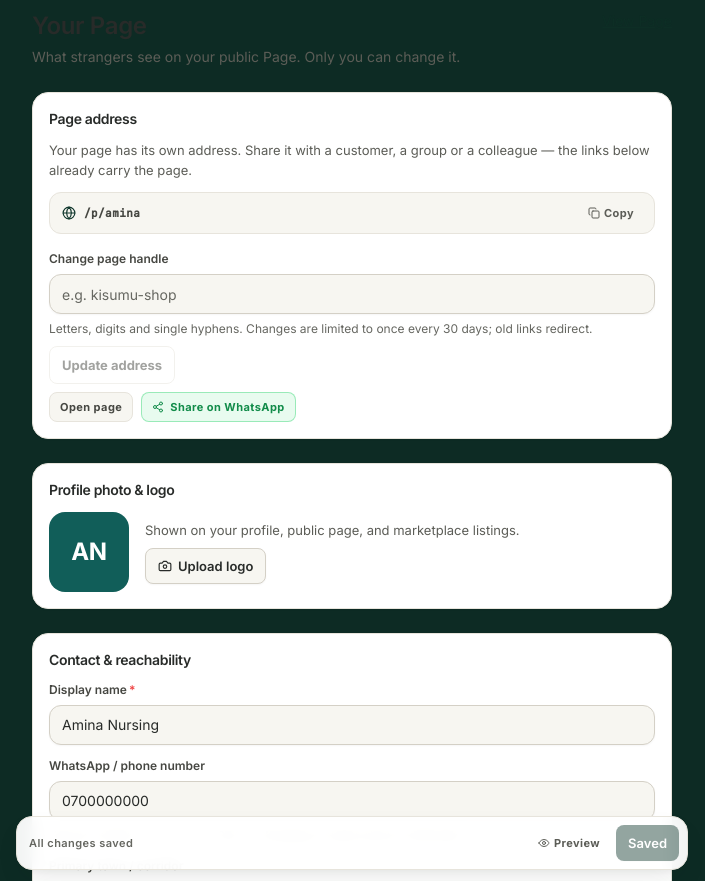
Scenario: the page editor's one save › saves from the bar and goes back to clean
The width and height of the screenshot is (705, 881).
Replace the text in the field showing "0700000000" with "0711111111" at [352, 801], box x1=49 y1=781 x2=655 y2=821
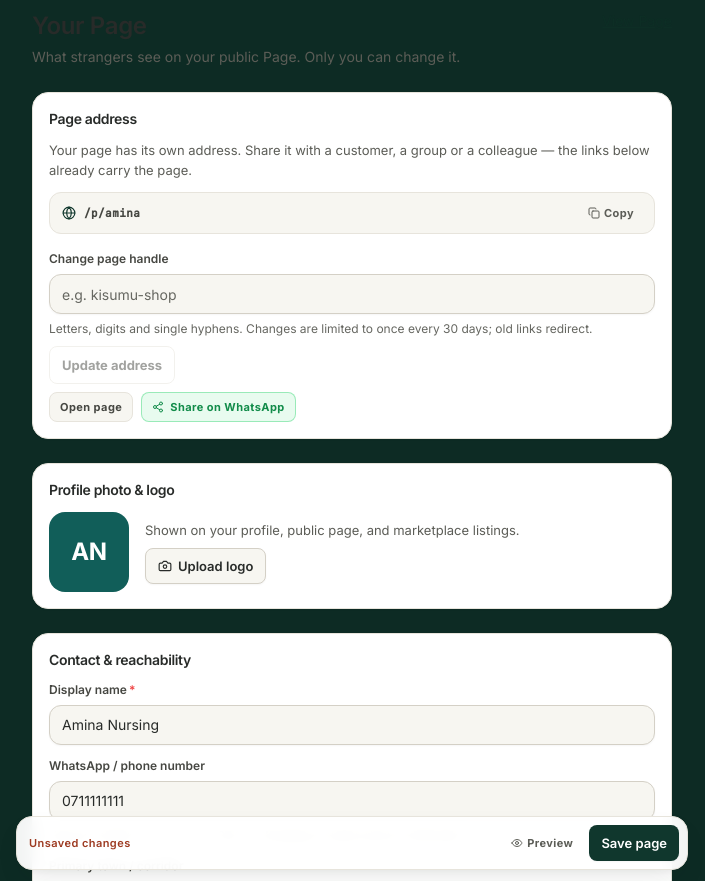
Click the button with test id "page-save" at [634, 843], box x1=589 y1=825 x2=679 y2=861
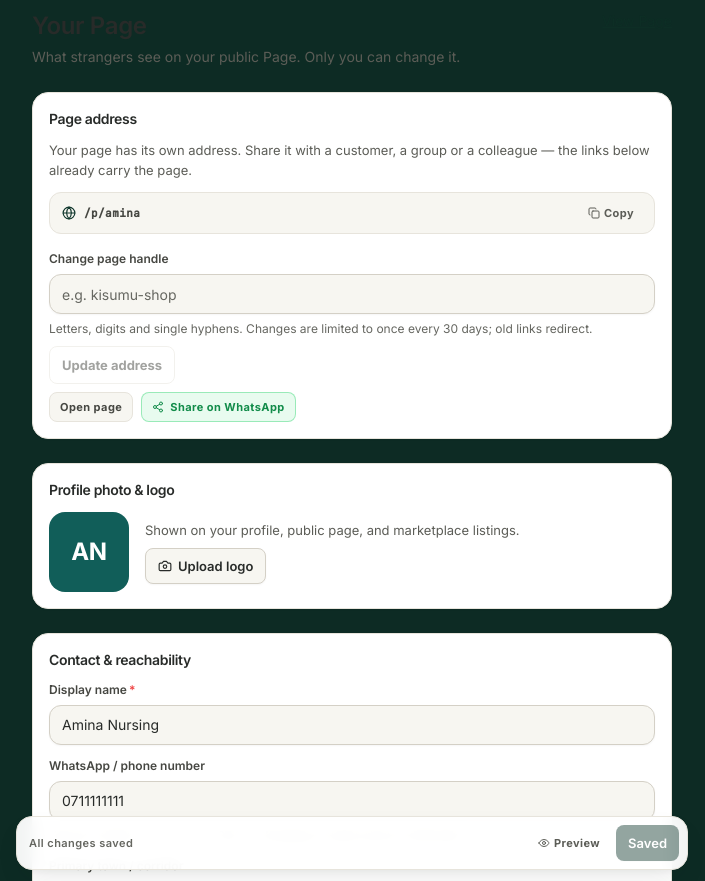
Result: the text "All changes saved" is shown at x1=29 y1=836 x2=133 y2=850
